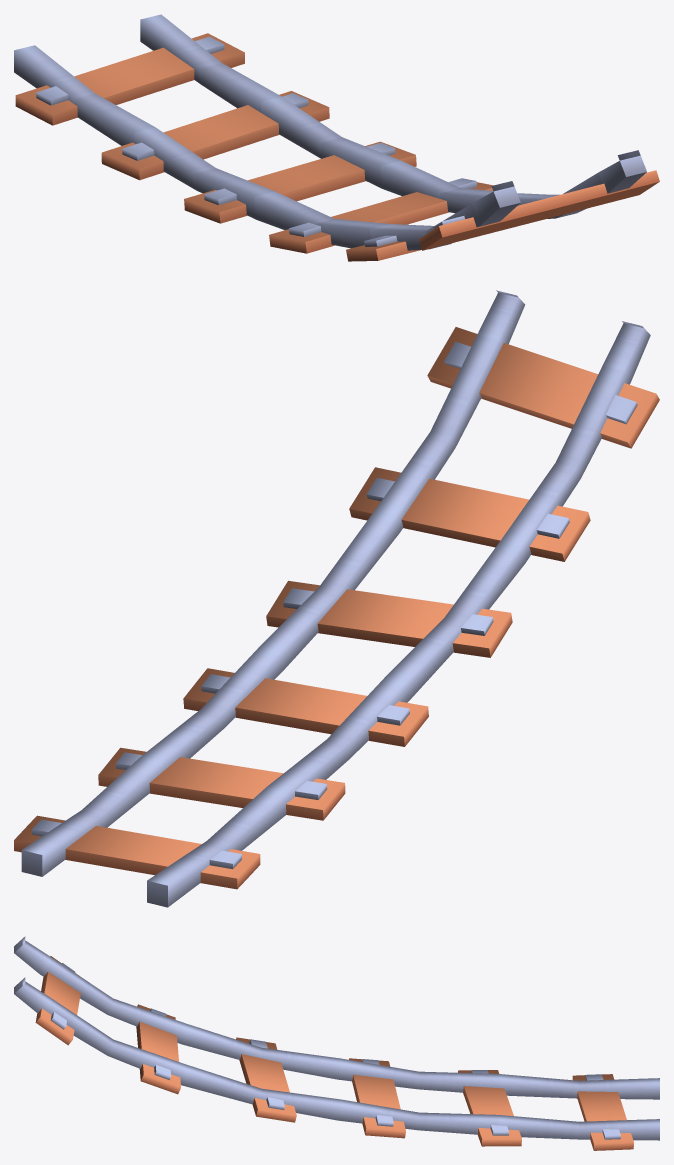
The model's file is kenney-train-railroad-damaged-straight-hill-beginning.glb.
3 renders of one model, top to bottom at view 1: azimuth 30°, elevation 25°; view 2: azimuth 150°, elevation 25°; view 3: azimuth 270°, elevation 25°, orthographic. The views are drawn at different scales.
Parts seen in each view (by area): view 1: railroad-damaged-straight-hill-beginning; view 2: railroad-damaged-straight-hill-beginning; view 3: railroad-damaged-straight-hill-beginning.
Part boxes in pixels (x1=…): railroad-damaged-straight-hill-beginning: x1=14, y1=14, x2=659, y2=261; railroad-damaged-straight-hill-beginning: x1=14, y1=290, x2=659, y2=907; railroad-damaged-straight-hill-beginning: x1=14, y1=936, x2=659, y2=1150.
Bounding box in the file's own units: 1.03 × 1.07 × 4.
Materials: 1 (1 with a texture image).
